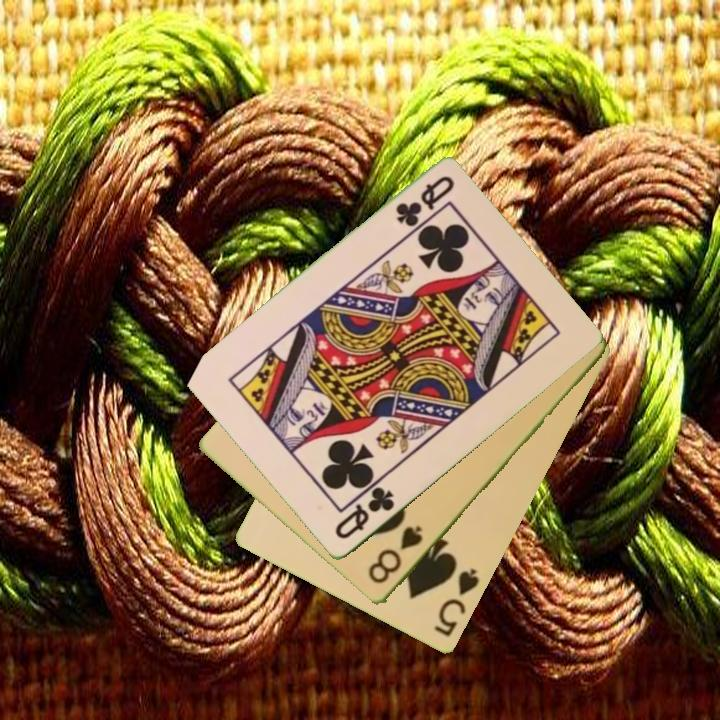5s: (431, 565, 483, 641)
8s: (365, 522, 426, 588)
Qc: (331, 483, 398, 543), (391, 172, 458, 231)
